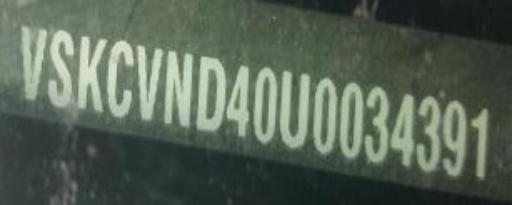letter: (278, 66, 312, 149), (74, 33, 108, 114), (194, 55, 228, 134), (45, 28, 75, 111), (106, 38, 136, 121), (18, 23, 48, 104), (163, 48, 193, 129), (135, 43, 163, 124), (388, 89, 416, 170), (413, 93, 441, 174), (442, 96, 470, 177), (252, 66, 280, 145), (338, 78, 364, 161), (225, 60, 253, 137), (363, 84, 389, 165), (312, 74, 336, 155), (468, 106, 492, 179)
